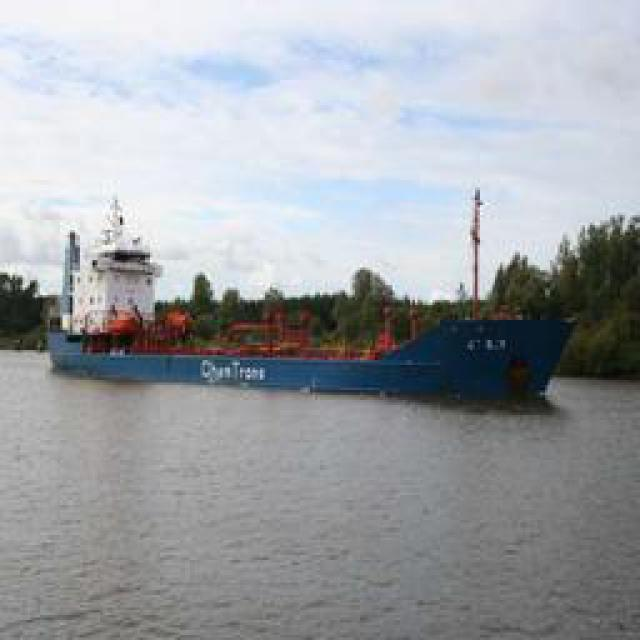Ship: (50, 188, 573, 406)
